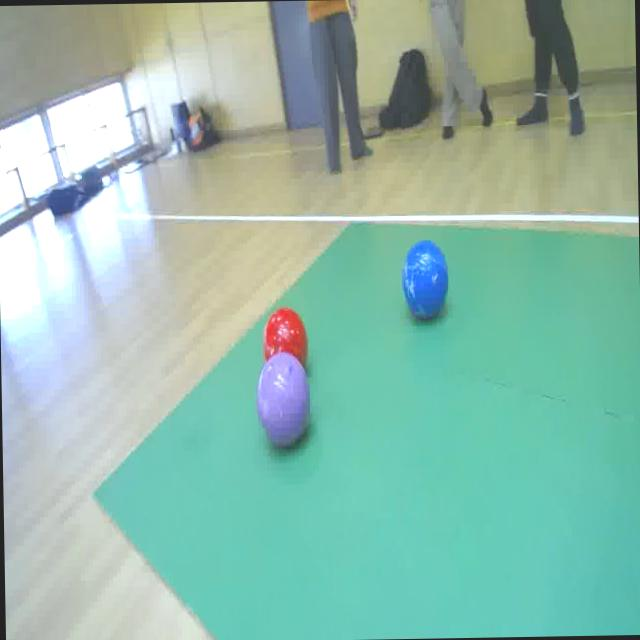blue_ball: (413, 229, 451, 332)
purple_ball: (256, 348, 315, 451)
red_ball: (258, 300, 314, 368)
